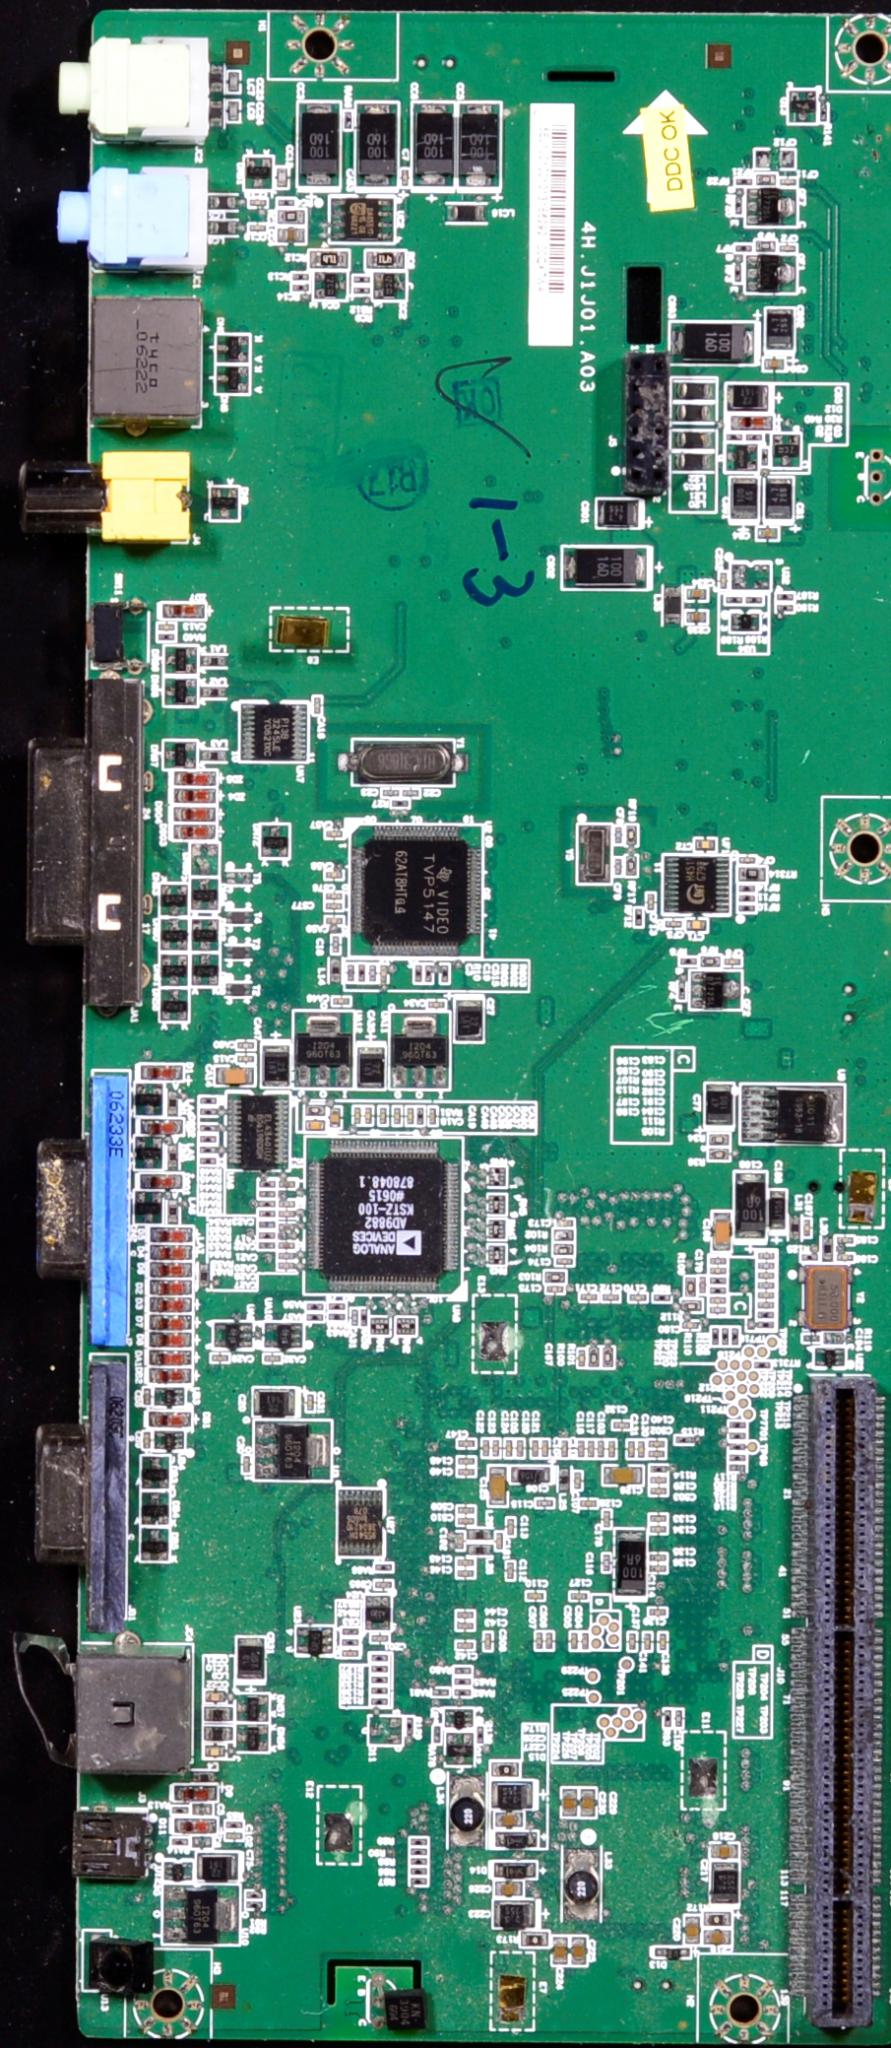Capacitor Jumper: (355, 737, 453, 782), (732, 1172, 766, 1238), (391, 1034, 449, 1067), (704, 1083, 734, 1127), (455, 997, 482, 1041), (217, 1064, 255, 1087), (711, 1211, 730, 1250), (768, 1189, 786, 1229), (494, 1813, 529, 1830), (278, 226, 306, 243), (331, 994, 361, 1008), (553, 1937, 567, 1967), (683, 1912, 698, 1941), (579, 1789, 594, 1816), (204, 1741, 226, 1758), (562, 1788, 576, 1814), (495, 1881, 521, 1895), (703, 1930, 730, 1944), (223, 69, 240, 90), (764, 355, 784, 372), (226, 101, 242, 121), (571, 1938, 584, 1963), (685, 611, 707, 626), (234, 1040, 257, 1051), (709, 1846, 738, 1855), (758, 526, 777, 539), (204, 1691, 225, 1703), (683, 917, 704, 929), (685, 588, 707, 598), (312, 694, 323, 716), (692, 839, 715, 849), (662, 918, 682, 930), (405, 1106, 418, 1123), (212, 1352, 233, 1362), (503, 1438, 513, 1459), (328, 1106, 340, 1125), (362, 1106, 374, 1125), (276, 165, 285, 188), (456, 1467, 476, 1477), (577, 1498, 597, 1509), (482, 1630, 491, 1652), (306, 1119, 327, 1128), (628, 1292, 647, 1302), (264, 1353, 282, 1364), (455, 1533, 465, 1552), (645, 892, 656, 910), (708, 1255, 724, 1267), (530, 1438, 540, 1458), (491, 1438, 500, 1458), (540, 1438, 549, 1458), (568, 1591, 588, 1600), (545, 1630, 554, 1650), (455, 1642, 474, 1651), (613, 825, 622, 845), (579, 1633, 589, 1650), (533, 1633, 543, 1650), (754, 175, 776, 183), (247, 223, 269, 231), (349, 1307, 358, 1326), (802, 1334, 820, 1343), (648, 1439, 666, 1448), (481, 1438, 490, 1456), (536, 1499, 554, 1509), (602, 1552, 611, 1570), (649, 1563, 668, 1573), (455, 1610, 473, 1620), (657, 1631, 666, 1650), (613, 857, 622, 875), (278, 1181, 294, 1191), (610, 1421, 631, 1429), (426, 1108, 435, 1125), (555, 1256, 572, 1266), (278, 1262, 295, 1271), (579, 1293, 596, 1302), (456, 1439, 473, 1448), (457, 1505, 474, 1514), (649, 1553, 666, 1562), (755, 1281, 775, 1289), (545, 1285, 564, 1293), (516, 1438, 524, 1458), (638, 1438, 645, 1458), (560, 1439, 568, 1459), (455, 1621, 474, 1629), (570, 1630, 577, 1650), (836, 1236, 854, 1243), (601, 1293, 619, 1301), (577, 1348, 585, 1366), (597, 1439, 605, 1458), (572, 1472, 580, 1490), (602, 1511, 611, 1527), (648, 1515, 666, 1523), (649, 1526, 668, 1533), (380, 1105, 387, 1126), (802, 1219, 810, 1236), (708, 1297, 725, 1305), (588, 1441, 596, 1458), (606, 1441, 614, 1458), (456, 1458, 473, 1465), (507, 1516, 515, 1533), (507, 1562, 515, 1579), (456, 1570, 473, 1578), (375, 1580, 392, 1588), (526, 1591, 543, 1599), (627, 1633, 635, 1650), (779, 246, 796, 253), (392, 1109, 401, 1123), (494, 1535, 503, 1549), (577, 1439, 584, 1459), (644, 1451, 664, 1458), (777, 179, 797, 185), (682, 1320, 698, 1328), (159, 623, 175, 631), (738, 856, 754, 863), (354, 1106, 361, 1125), (557, 1219, 575, 1225), (836, 1254, 854, 1260), (628, 1441, 635, 1459), (643, 1633, 649, 1651), (429, 1002, 445, 1008), (278, 1242, 295, 1249), (278, 1253, 295, 1259), (758, 1263, 775, 1270), (455, 1560, 472, 1566), (278, 1200, 294, 1207), (708, 1266, 724, 1272), (250, 199, 265, 205), (756, 1253, 775, 1258), (756, 1272, 775, 1277), (647, 1609, 665, 1614), (278, 1209, 293, 1216), (238, 1057, 255, 1062), (457, 1516, 474, 1522), (342, 1650, 359, 1655), (756, 1302, 772, 1307), (708, 1306, 724, 1311), (700, 1276, 704, 1292), (721, 571, 725, 586), (758, 1293, 772, 1297)
Connector: (789, 1371, 890, 2013), (24, 680, 138, 1008), (31, 1357, 125, 1634), (35, 1074, 127, 1347), (25, 1644, 195, 1771), (64, 38, 212, 152), (59, 166, 208, 274), (14, 456, 191, 542), (89, 298, 202, 428), (69, 1808, 146, 1880)
IC: (307, 1139, 460, 1290), (351, 828, 482, 952), (739, 1084, 844, 1144), (230, 1092, 289, 1168), (163, 1885, 238, 1944), (240, 701, 310, 760), (664, 853, 729, 913), (337, 1489, 384, 1557), (331, 199, 393, 238), (295, 1626, 332, 1655), (213, 1320, 252, 1345), (264, 1323, 302, 1347), (367, 1595, 391, 1631), (162, 1860, 192, 1880), (445, 1708, 474, 1728), (814, 1347, 844, 1365)
Resistor Jumper: (622, 856, 639, 876), (521, 1933, 547, 1946), (553, 1229, 576, 1243), (624, 823, 638, 846), (551, 1243, 572, 1256), (822, 1334, 844, 1345), (707, 1148, 728, 1160), (589, 1344, 598, 1370), (602, 1345, 613, 1368), (543, 1271, 563, 1283), (681, 1300, 700, 1311), (708, 1135, 729, 1145), (755, 242, 777, 251), (197, 1095, 216, 1105), (653, 1293, 672, 1304), (685, 1277, 694, 1297), (370, 1654, 389, 1663), (453, 1688, 473, 1697), (453, 1676, 470, 1686), (306, 1302, 324, 1311), (431, 1688, 449, 1697), (725, 593, 743, 602), (259, 1230, 276, 1240), (711, 1327, 719, 1347), (476, 1725, 483, 1745), (432, 1725, 440, 1745), (409, 1847, 429, 1855), (328, 1302, 346, 1310), (306, 1313, 324, 1320), (730, 1326, 738, 1344), (720, 1328, 728, 1347), (453, 1667, 472, 1674), (410, 1877, 429, 1885), (775, 594, 793, 602), (200, 1123, 217, 1131), (200, 1159, 217, 1166), (341, 1627, 358, 1635), (371, 1665, 388, 1673), (409, 1838, 426, 1846), (409, 1857, 426, 1865), (776, 603, 793, 611), (158, 633, 175, 641), (415, 1105, 422, 1125), (709, 1276, 725, 1284), (756, 1311, 772, 1319), (256, 1242, 274, 1249), (370, 1676, 388, 1682), (370, 1688, 388, 1694), (200, 1109, 217, 1115), (200, 1135, 217, 1142), (200, 1147, 217, 1153), (259, 1211, 276, 1217), (708, 1287, 725, 1293), (261, 1181, 274, 1189), (328, 1314, 344, 1320), (406, 1718, 413, 1733), (409, 1869, 425, 1876), (256, 1191, 274, 1196), (758, 1322, 772, 1328), (261, 1200, 278, 1206), (256, 1221, 272, 1226), (344, 1639, 358, 1644), (372, 1698, 387, 1703), (746, 597, 760, 602)
Transistor: (690, 969, 741, 1011), (745, 255, 796, 293), (746, 189, 794, 225), (214, 364, 250, 394), (724, 443, 759, 472), (444, 1733, 474, 1766), (135, 1083, 163, 1115), (771, 435, 800, 468), (210, 486, 238, 520), (136, 1135, 161, 1169), (315, 270, 345, 298), (375, 273, 405, 300), (136, 1191, 162, 1221), (247, 158, 272, 189), (217, 333, 248, 358), (788, 99, 817, 112)
